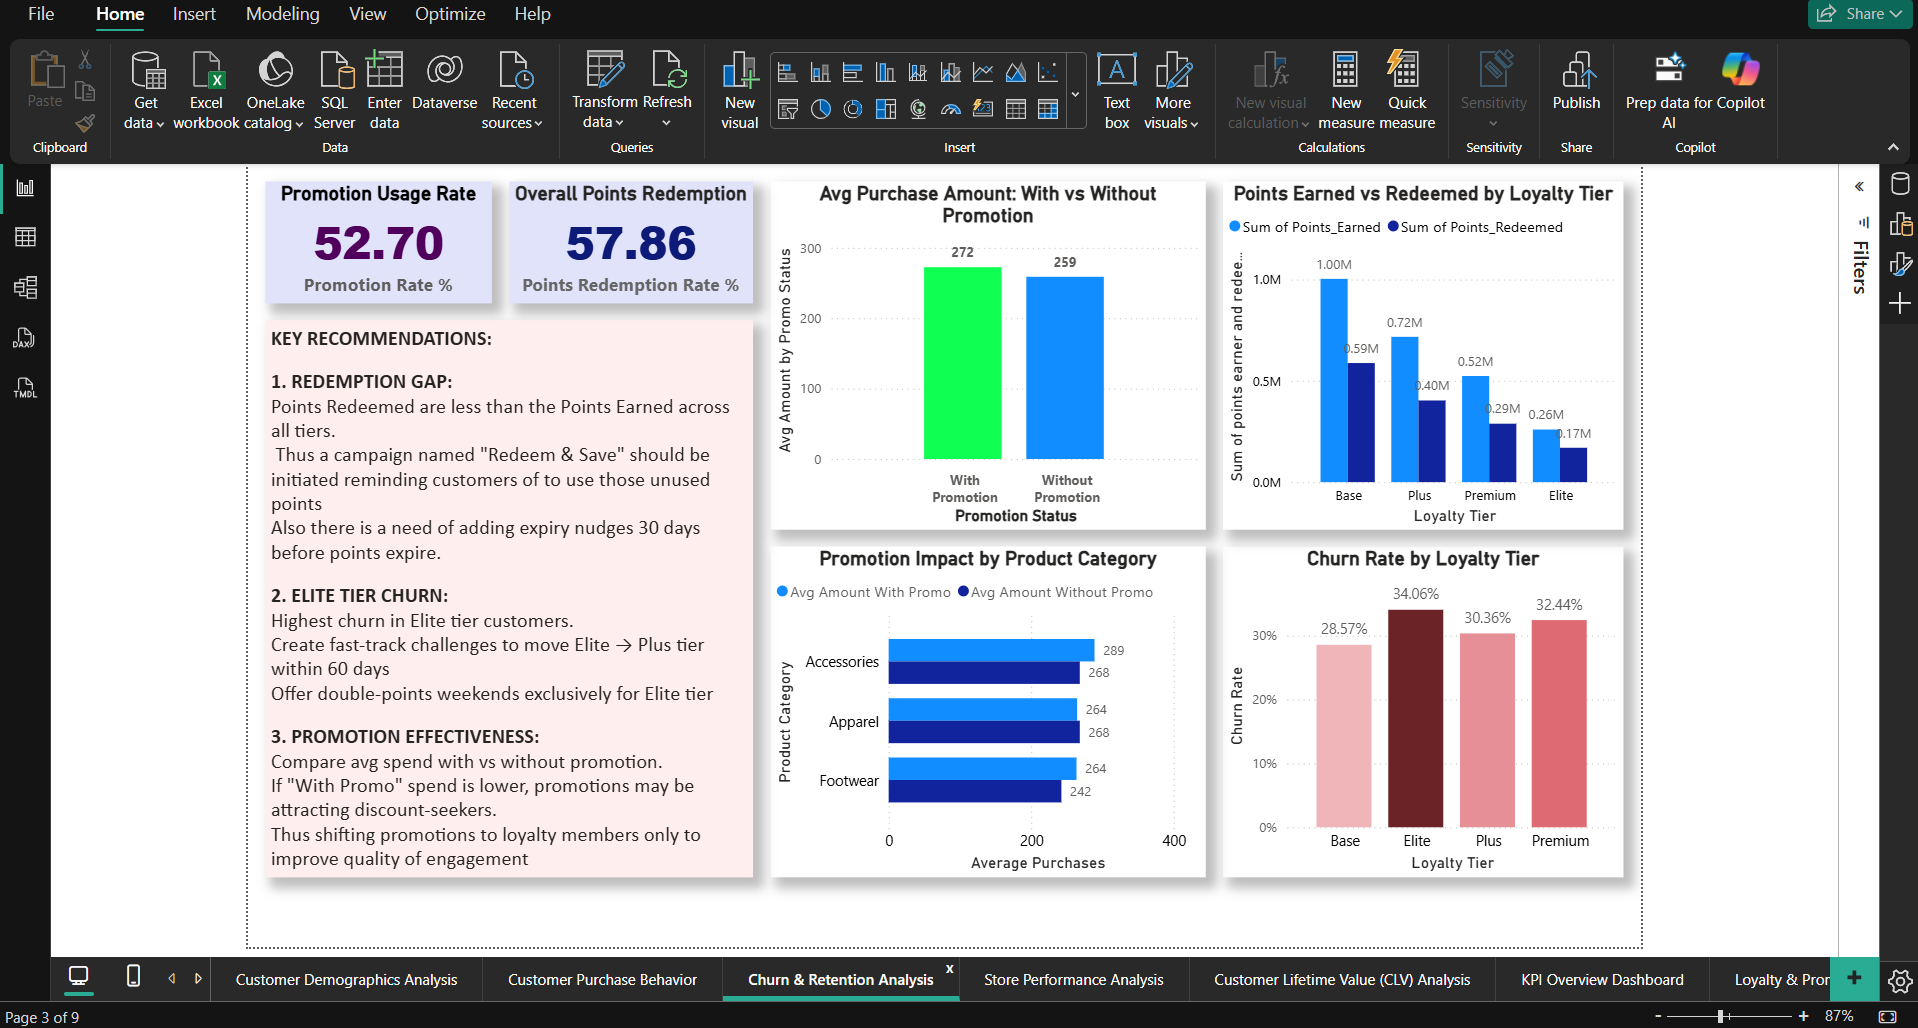

The dashboard page shown, as its layout file describes it:
{"tool":"powerbi","page":{"name":"Churn & Retention Analysis","canvas":[1280,720],"ordinal":2},"visuals":[{"type":"card","title":"Promotion Usage Rate","fields":{"Values":["Transactions.Promotion Rate %"]},"box":[16,16,208,112],"z":0},{"type":"clusteredColumnChart","title":"Avg Purchase Amount: With vs Without Promotion","fields":{"Category":["Promo_Comparison.Promotion_Status"],"Y":["Promo_Comparison.Avg Amount by Promo Status"]},"box":[480,16,400,320],"z":1000},{"type":"clusteredColumnChart","title":"Churn Rate by Loyalty Tier","fields":{"Category":["Loyalty.Loyalty_Tier"],"Y":["Churn.Churn Rate"]},"box":[896,352,368,304],"z":2000},{"type":"clusteredColumnChart","title":"Points Earned vs Redeemed by Loyalty Tier","fields":{"Category":["Loyalty.Loyalty_Tier"],"Y":["Sum(Loyalty.Points_Earned)","Sum(Loyalty.Points_Redeemed)"]},"box":[896,16,368,320],"z":3000},{"type":"card","title":"Overall Points Redemption","fields":{"Values":["Loyalty.Points Redemption Rate %"]},"box":[240,16,224,112],"z":4000},{"type":"clusteredBarChart","title":"Promotion Impact by Product Category","fields":{"Y":["Transactions.Avg Amount With Promo","Transactions.Avg Amount Without Promo"],"Category":["Transactions.Product_Category"]},"box":[480,352,400,304],"z":5000},{"type":"textbox","box":[16,144,448,512],"z":6000}]}

Visuals, with their boxes on the page's 1280x720 design canvas (x1, y1, x2, y2). These are canvas units, not pixel positions in the 1918x1028 screenshot, which may show the page scaled, cropped or inside an application window:
"Promotion Usage Rate" card: {"left": 16, "top": 16, "right": 224, "bottom": 128}
"Avg Purchase Amount: With vs Without Promotion" clusteredColumnChart: {"left": 480, "top": 16, "right": 880, "bottom": 336}
"Churn Rate by Loyalty Tier" clusteredColumnChart: {"left": 896, "top": 352, "right": 1264, "bottom": 656}
"Points Earned vs Redeemed by Loyalty Tier" clusteredColumnChart: {"left": 896, "top": 16, "right": 1264, "bottom": 336}
"Overall Points Redemption" card: {"left": 240, "top": 16, "right": 464, "bottom": 128}
"Promotion Impact by Product Category" clusteredBarChart: {"left": 480, "top": 352, "right": 880, "bottom": 656}
textbox: {"left": 16, "top": 144, "right": 464, "bottom": 656}
